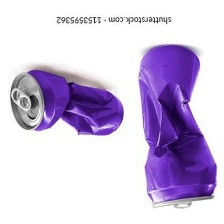can: (130, 39, 219, 210), (3, 69, 127, 146)
